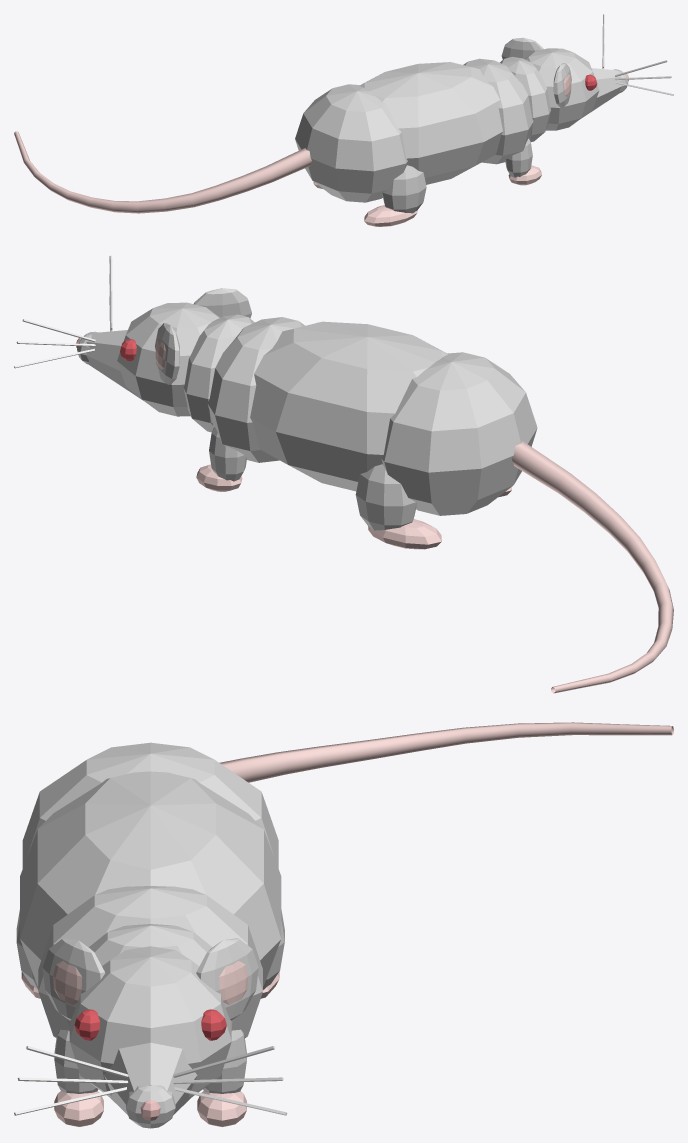
The model's file is animal_rat.glb.
The picture shows the model from 3 angles, top to bottom: view 1: azimuth 30°, elevation 25°; view 2: azimuth 150°, elevation 25°; view 3: azimuth 270°, elevation 25°; orthographic projection. The views are drawn at different scales.
Visible parts, largest first — view 1: Sic_ArkBacak_-1; view 2: Sic_ArkBacak_-1; view 3: Sic_ArkBacak_-1.
Boxes of the visible parts, x1,y1,x2,y2 form: Sic_ArkBacak_-1: [14, 14, 673, 226]; Sic_ArkBacak_-1: [14, 255, 673, 693]; Sic_ArkBacak_-1: [14, 722, 673, 1128].
Bounding box in the file's own units: 8.39 × 1.87 × 4.8.
